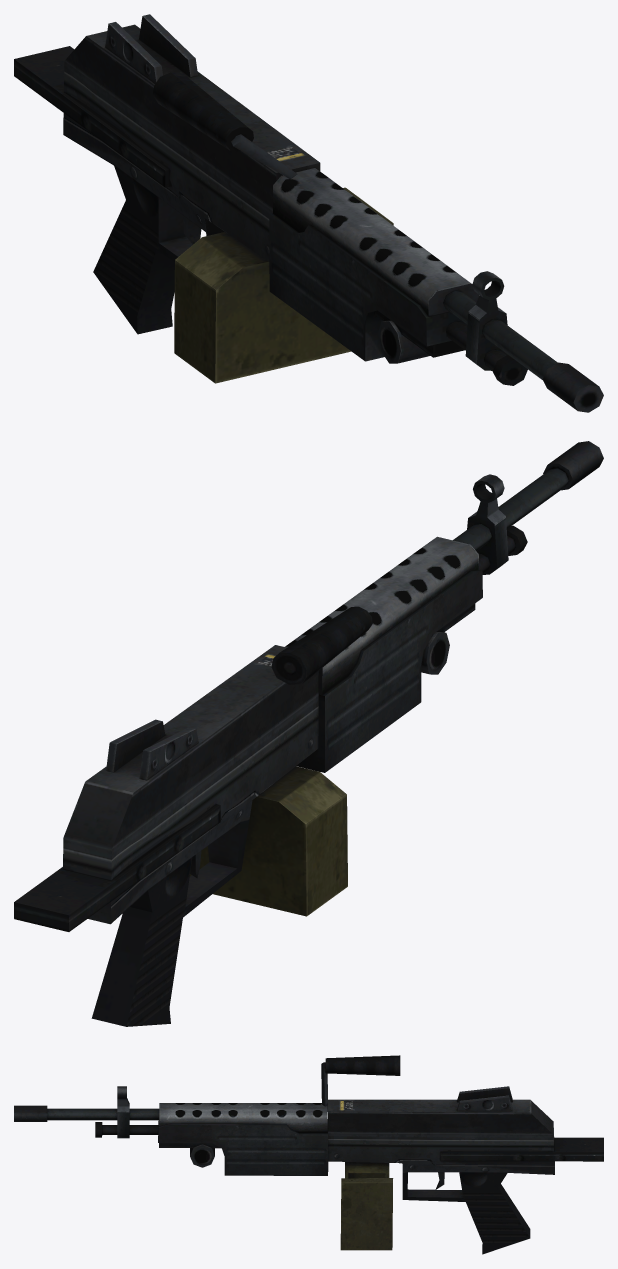
Rendered from cs-weapon-m249-counter-strike-source.glb.
The picture shows the model from 3 angles, top to bottom: view 1: azimuth 30°, elevation 25°; view 2: azimuth 150°, elevation 25°; view 3: azimuth 270°, elevation 25°; orthographic projection. The views are drawn at different scales.
Size of the model in its own units: 7.18 by 12.11 by 36.64.
Materials: 1 (1 with a texture image).
